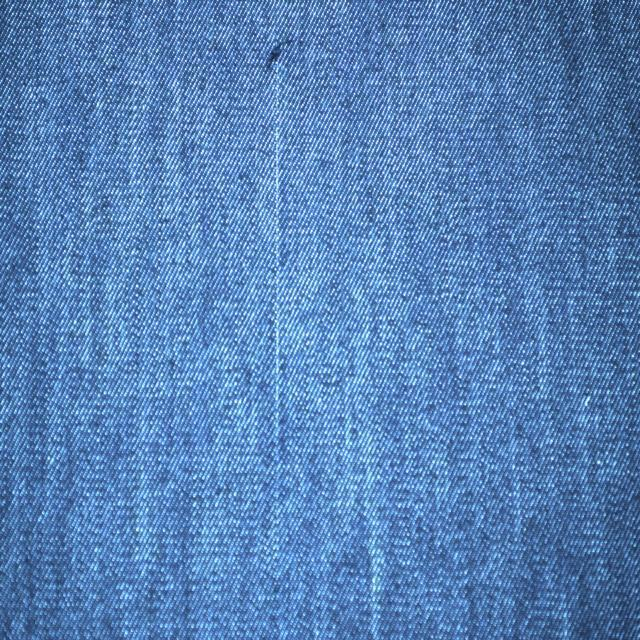pulled_or_thick_thread: (266, 48, 290, 444)
